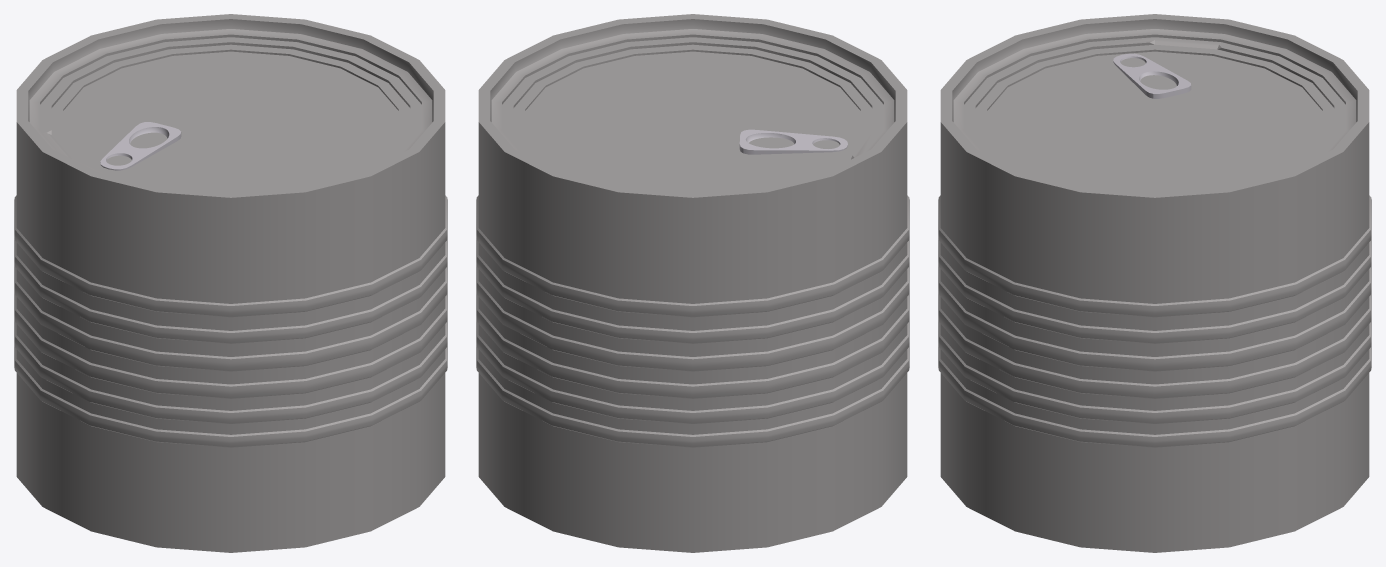
Rendered from P_boite_conserve_2_V2.fbx.
The picture shows the model from 3 angles, left to right: view 1: azimuth 30°, elevation 25°; view 2: azimuth 150°, elevation 25°; view 3: azimuth 270°, elevation 25°; orthographic projection.
Parts seen in each view (by area): view 1: Cylinder001; view 2: Cylinder001; view 3: Cylinder001.
Part boxes in pixels (x1=…): Cylinder001: x1=14, y1=14, x2=447, y2=552; Cylinder001: x1=476, y1=14, x2=909, y2=552; Cylinder001: x1=938, y1=14, x2=1371, y2=552.
Bounding box in the file's own units: 18.82 × 16.75 × 18.54.
Materials: 1 (1 with a texture image).
